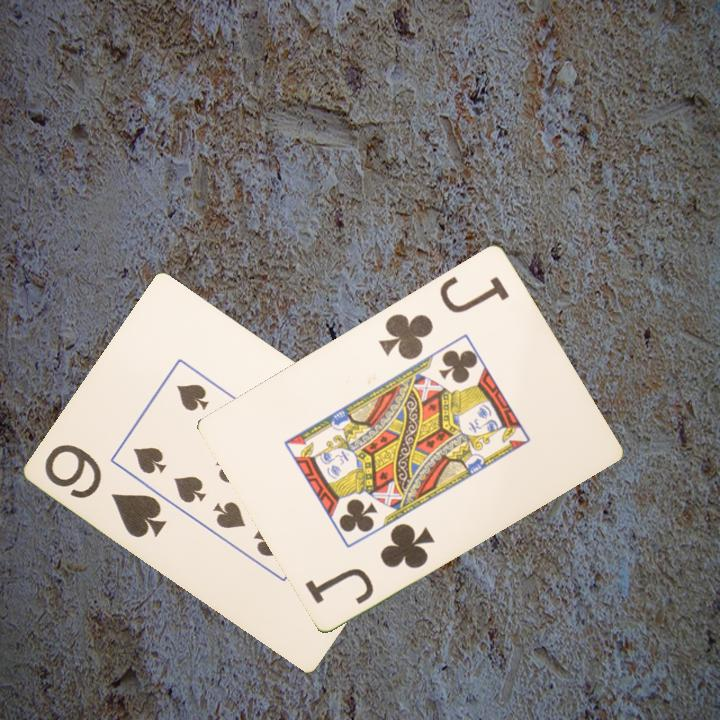9s: (41, 440, 171, 541)
Jc: (375, 271, 513, 363), (301, 518, 438, 607)
